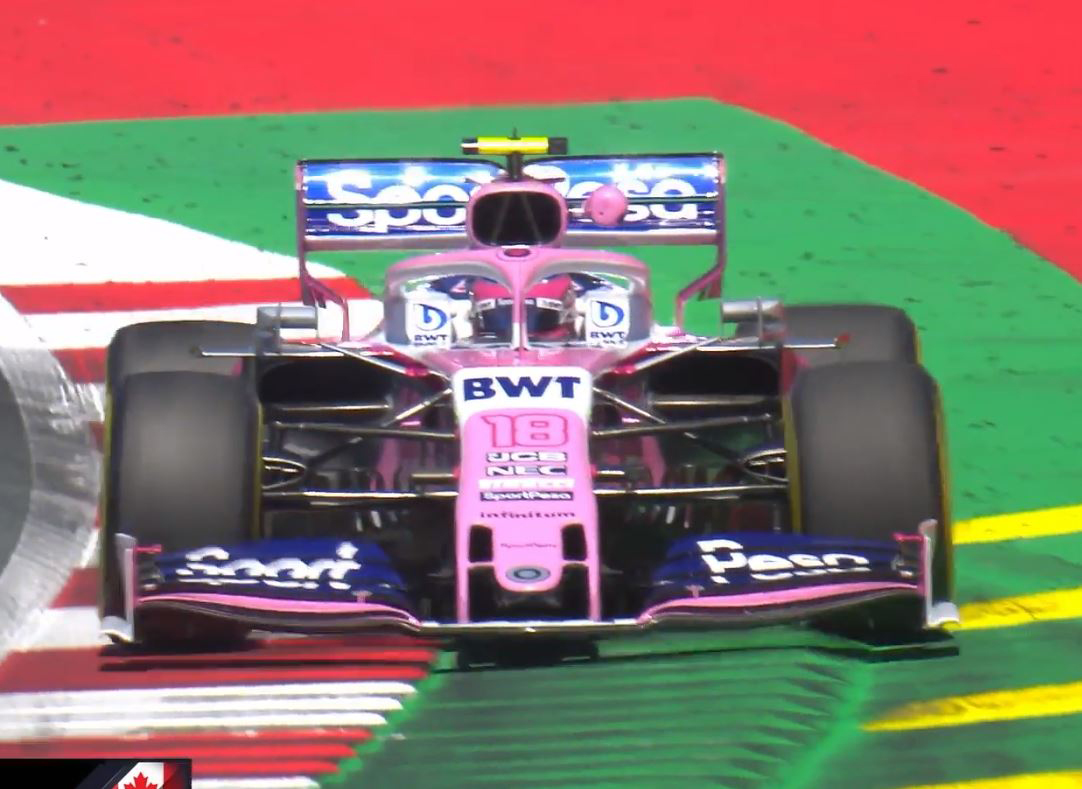F1 Car: (81, 123, 967, 661)
